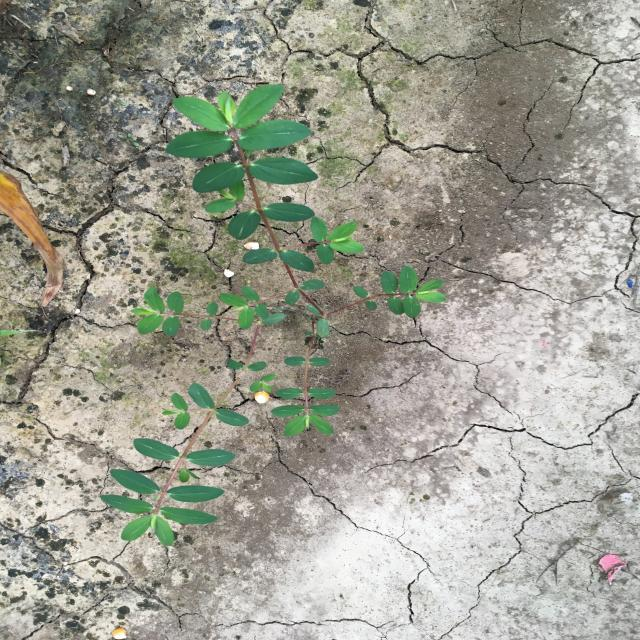SpottedSpurge: (165, 85, 447, 437), (100, 286, 288, 546)
